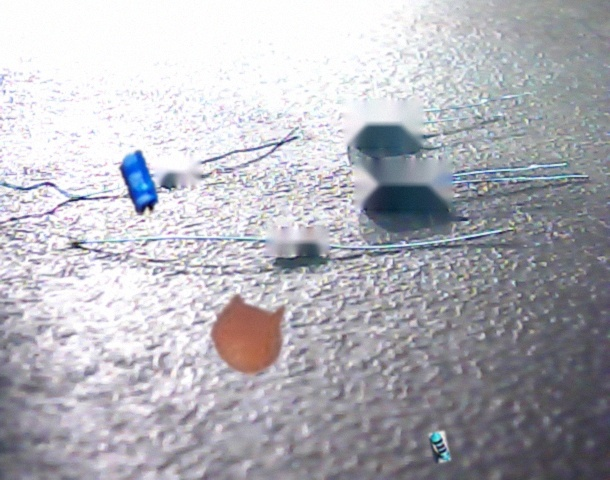capacitor: (210, 294, 286, 376), (119, 150, 158, 217)
resistor: (429, 431, 451, 463)
